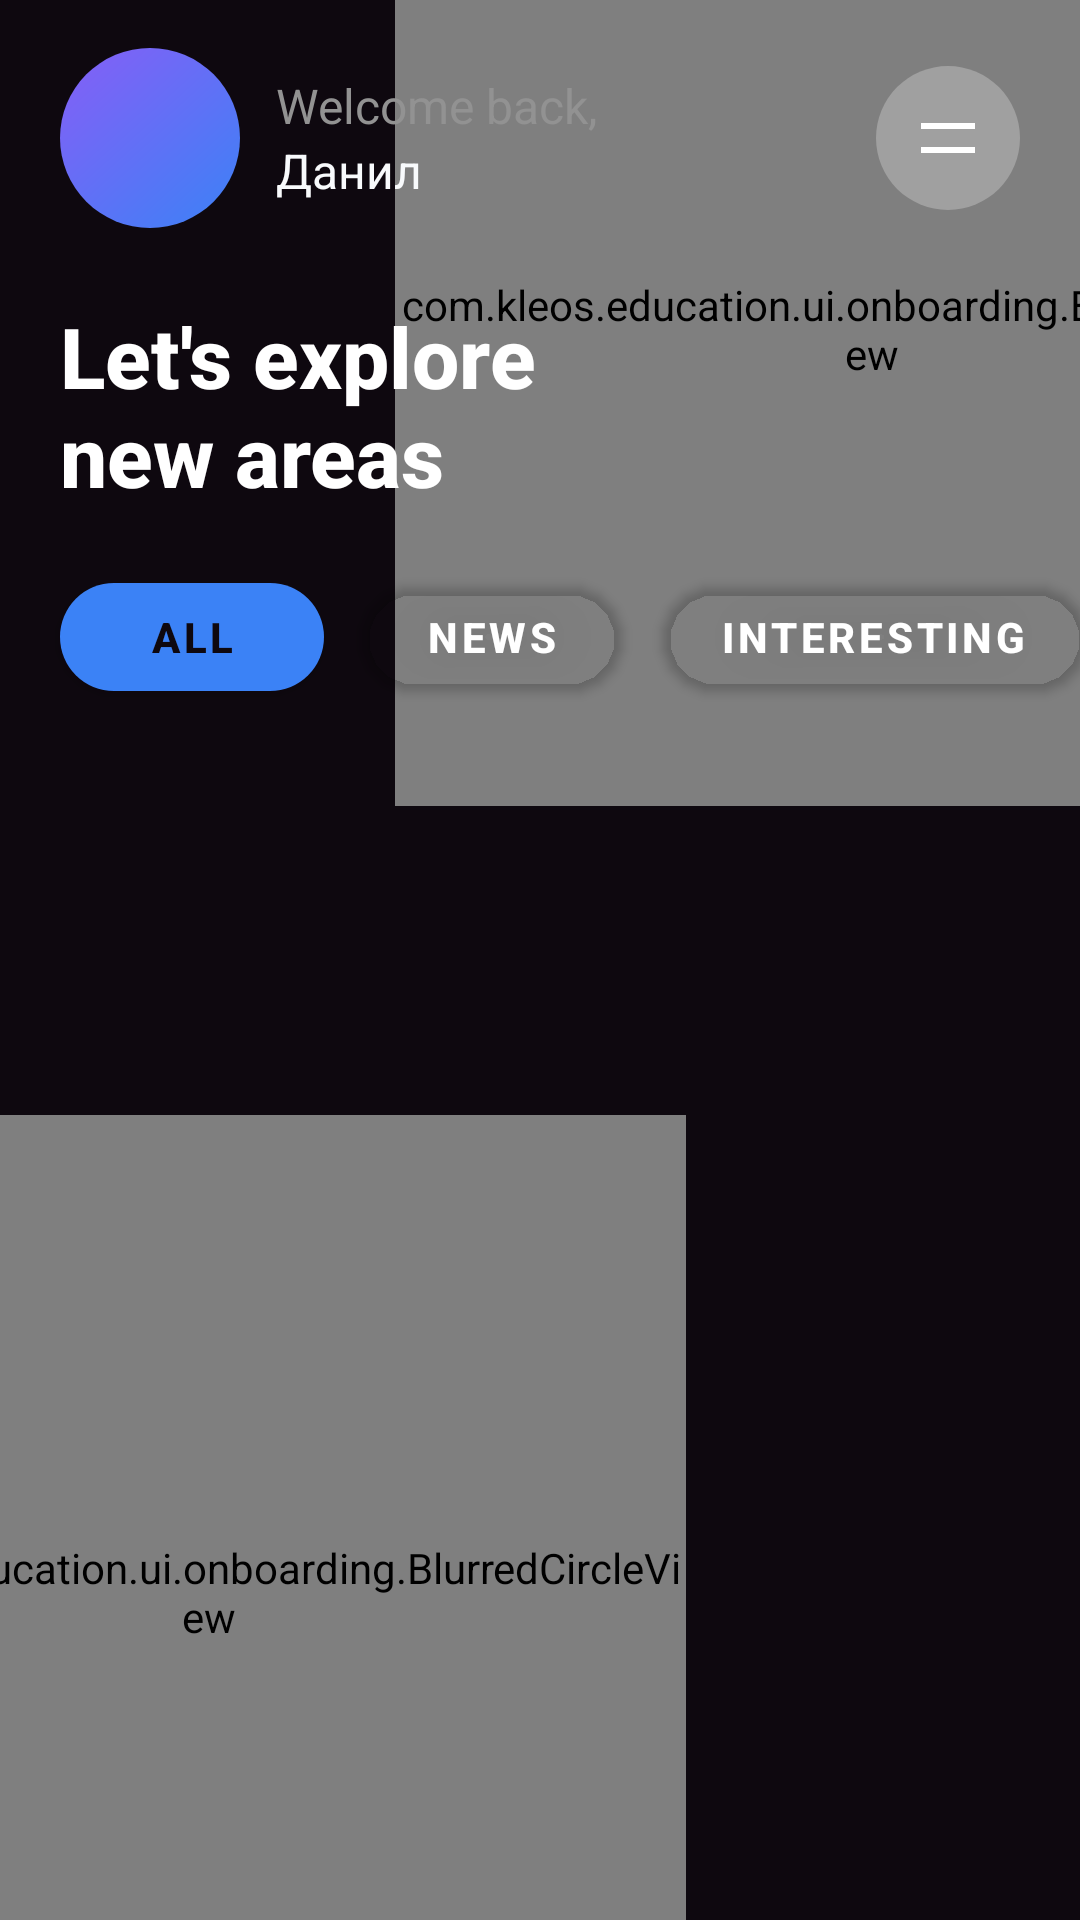

Icons on this 1080*1920 Android screen, each with the point to tap as point (x, y):
Menu: point (948, 138)
